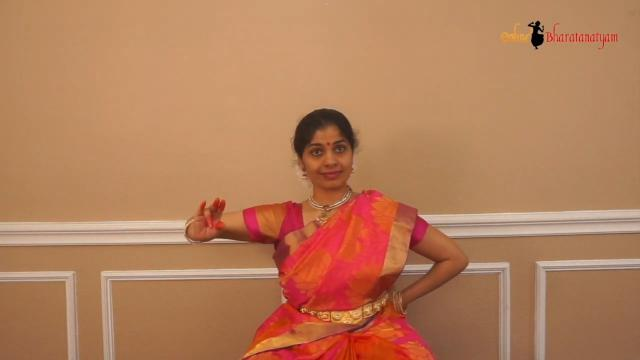kangul: (150, 150, 250, 255)
